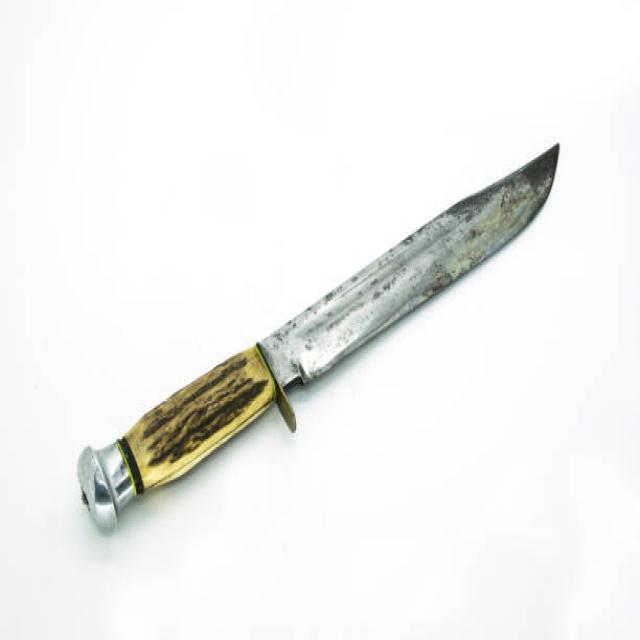knife: (76, 140, 563, 547)
